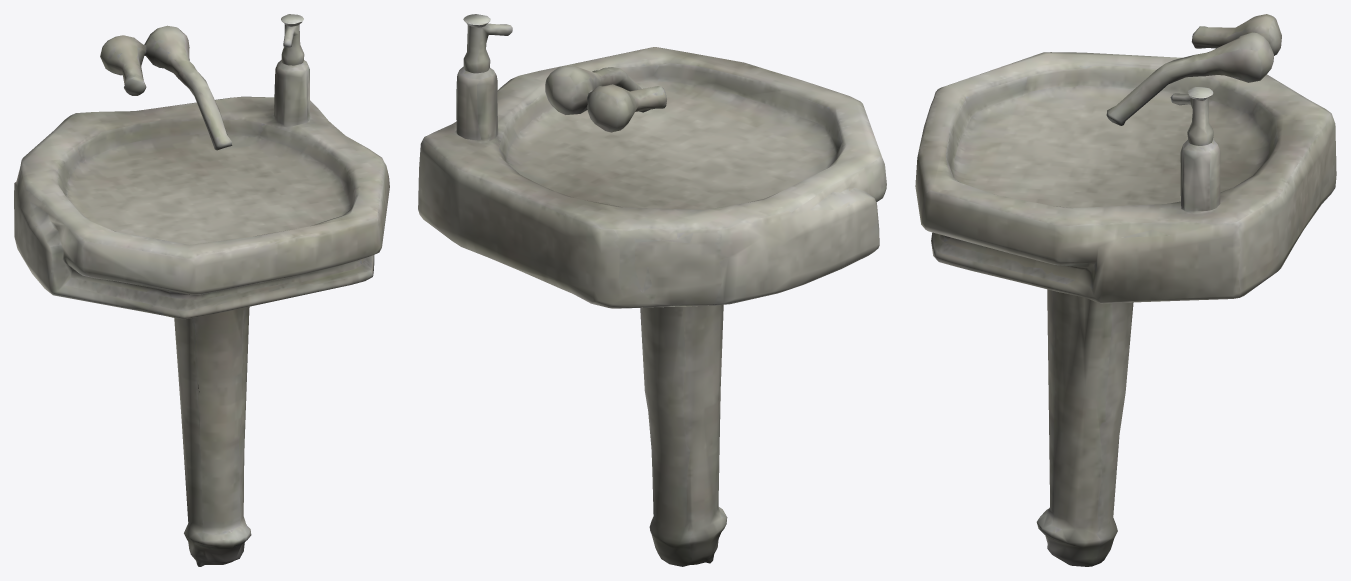
File: chipped-white-painted-washbasin-v001.glb
3 views of the same model, side by side, from view 1: azimuth 30°, elevation 25°; view 2: azimuth 150°, elevation 25°; view 3: azimuth 270°, elevation 25° (orthographic). The views are drawn at different scales.
Visible parts, largest first — view 1: chipped-white-painted-washbasin; view 2: chipped-white-painted-washbasin; view 3: chipped-white-painted-washbasin.
Boxes of the visible parts, <box> form: chipped-white-painted-washbasin: <box>14,14,389,566</box>; chipped-white-painted-washbasin: <box>418,14,886,566</box>; chipped-white-painted-washbasin: <box>915,14,1336,566</box>.
Size of the model in its own units: 0.712 by 0.9649 by 0.6822.
1 material, 1 textured.
